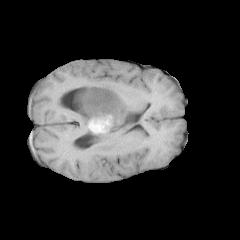glioma: (72, 82, 141, 136)
